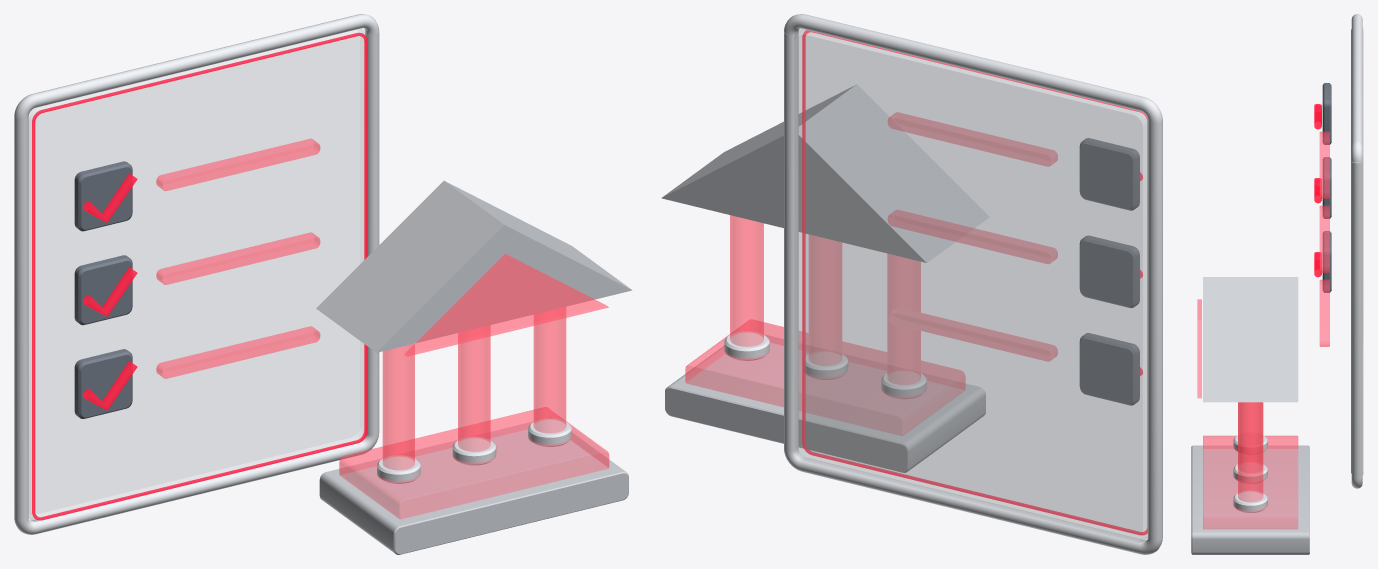
File: 03-data-governance.glb
The picture shows the model from 3 angles, left to right: view 1: azimuth 30°, elevation 25°; view 2: azimuth 150°, elevation 25°; view 3: azimuth 270°, elevation 25°; orthographic projection. The views are drawn at different scales.
Parts seen in each view (by area): view 1: BC clear optical glass, BC satin silver metal, BC ruby optical glass, BC polished silver metal, BC dark brushed metal, BC neon red glass edge; view 2: BC clear optical glass, BC satin silver metal, BC ruby optical glass, BC polished silver metal, BC dark brushed metal, BC neon red glass edge; view 3: BC satin silver metal, BC ruby optical glass, BC polished silver metal, BC dark brushed metal, BC neon red glass edge, BC clear optical glass.
Part boxes in pixels (<box>): BC clear optical glass: <box>28,28,366,521</box>; BC satin silver metal: <box>316,180,632,554</box>; BC ruby optical glass: <box>156,138,609,518</box>; BC polished silver metal: <box>14,14,571,534</box>; BC dark brushed metal: <box>74,161,132,418</box>; BC neon red glass edge: <box>32,32,367,520</box>; BC clear optical glass: <box>794,29,1147,542</box>; BC satin silver metal: <box>661,84,989,472</box>; BC ruby optical glass: <box>685,112,1057,435</box>; BC polished silver metal: <box>724,14,1162,554</box>; BC dark brushed metal: <box>1079,138,1139,405</box>; BC neon red glass edge: <box>802,30,1147,535</box>; BC satin silver metal: <box>1191,277,1309,554</box>; BC ruby optical glass: <box>1197,131,1329,528</box>; BC polished silver metal: <box>1233,14,1362,512</box>; BC dark brushed metal: <box>1322,83,1331,292</box>; BC neon red glass edge: <box>1314,29,1351,473</box>; BC clear optical glass: <box>1362,28,1363,474</box>.
Size of the model in its own units: 2.1 by 1.73 by 0.766.
